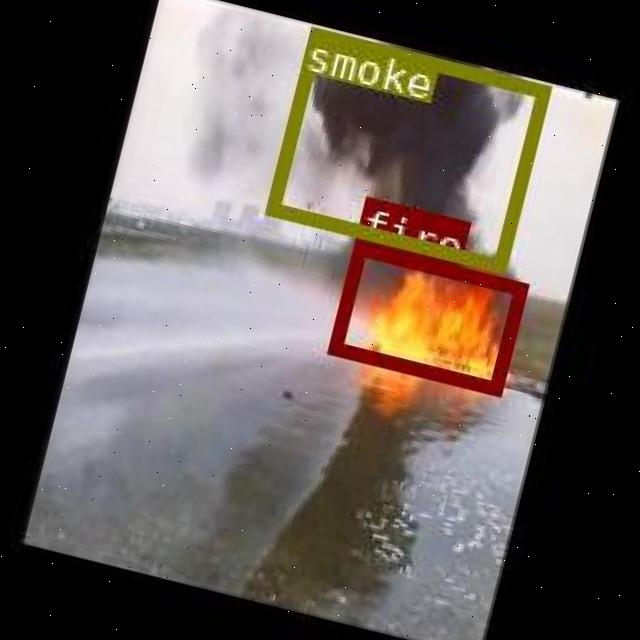fire: (324, 238, 526, 394)
smoke: (263, 23, 547, 270)
